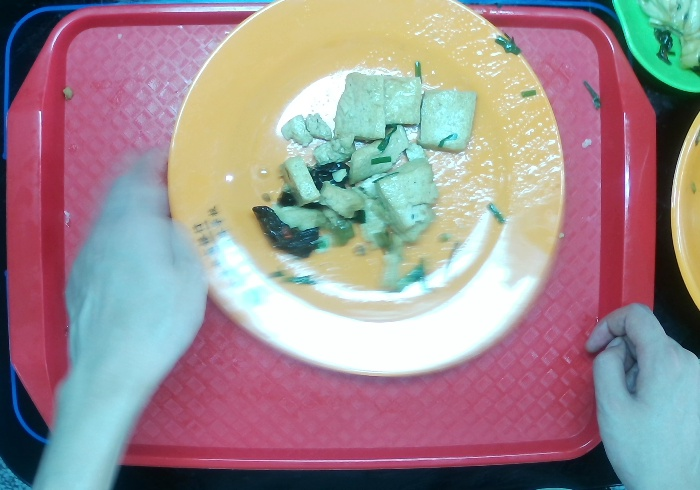YKMZ-Ju_Se_Mian_Pan: (163, 1, 566, 382)
